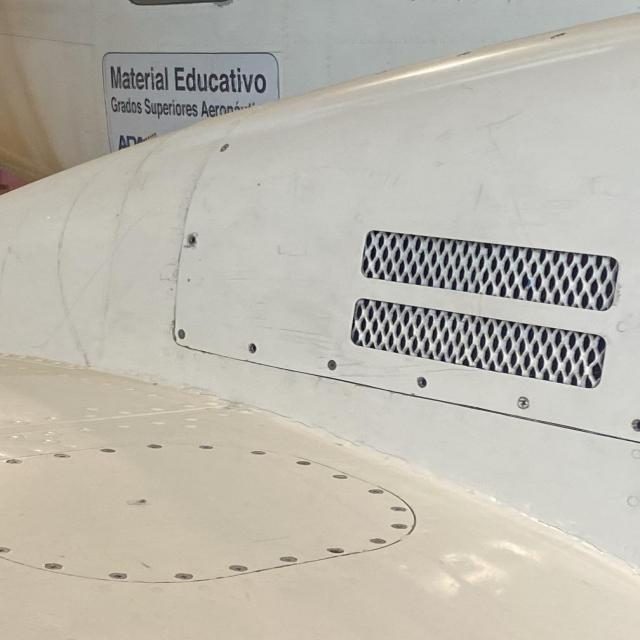Missing-head: (185, 233, 197, 248), (630, 419, 640, 434), (246, 343, 257, 354), (416, 378, 428, 388)
Paint-off: (211, 0, 235, 8), (407, 0, 433, 5)
